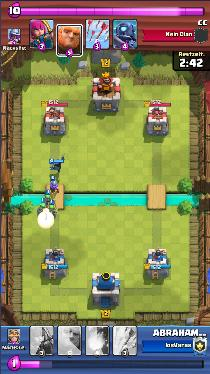ally_mini_pekka: (50, 156, 64, 172)
ally_musketeer: (47, 179, 59, 192)
ally_spear_goblin: (38, 204, 48, 216), (47, 206, 58, 216), (42, 194, 53, 203)
